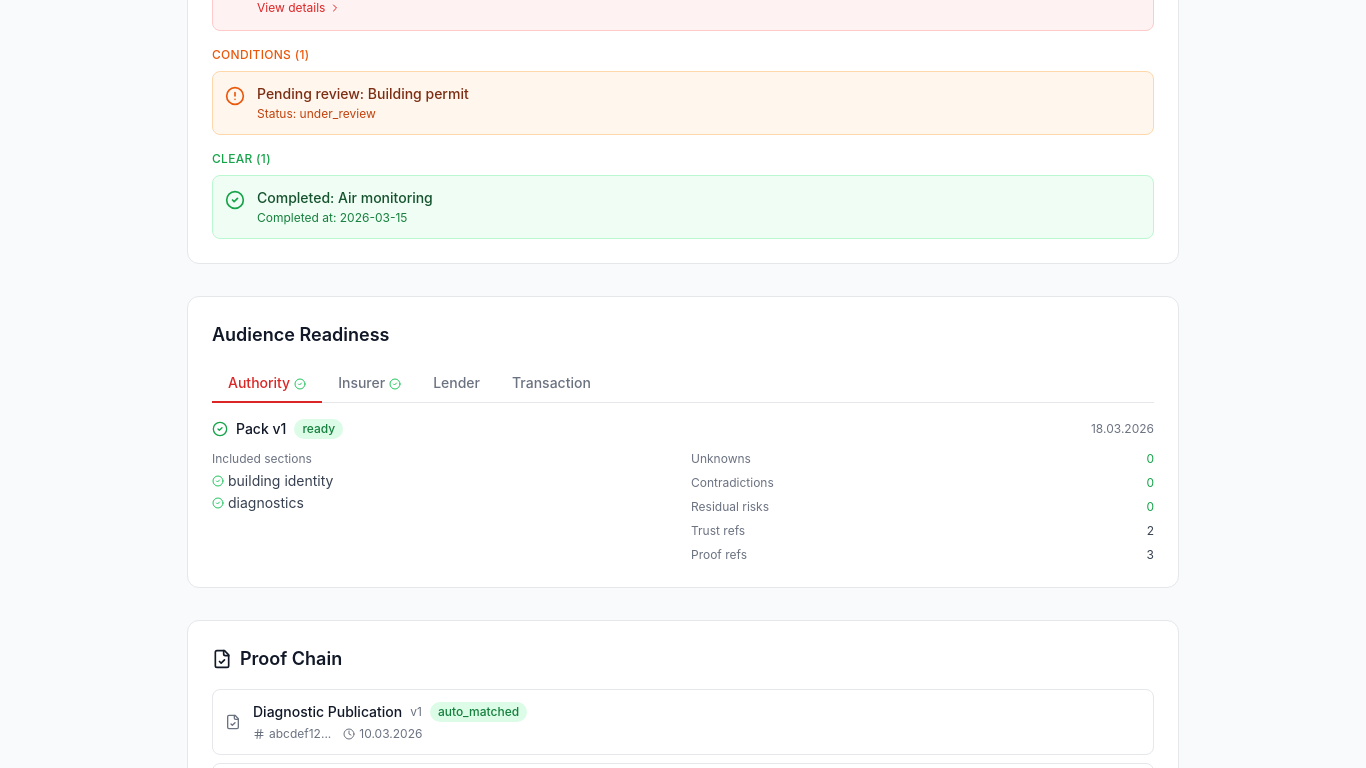
Test: BuildingDecisionView › renders audience readiness tabs and switches between them
(page scrolled)
Expected: the button "Authority" is shown, [212, 365, 322, 403]
Click the button "Insurer": (370, 384) [322, 365, 417, 403]
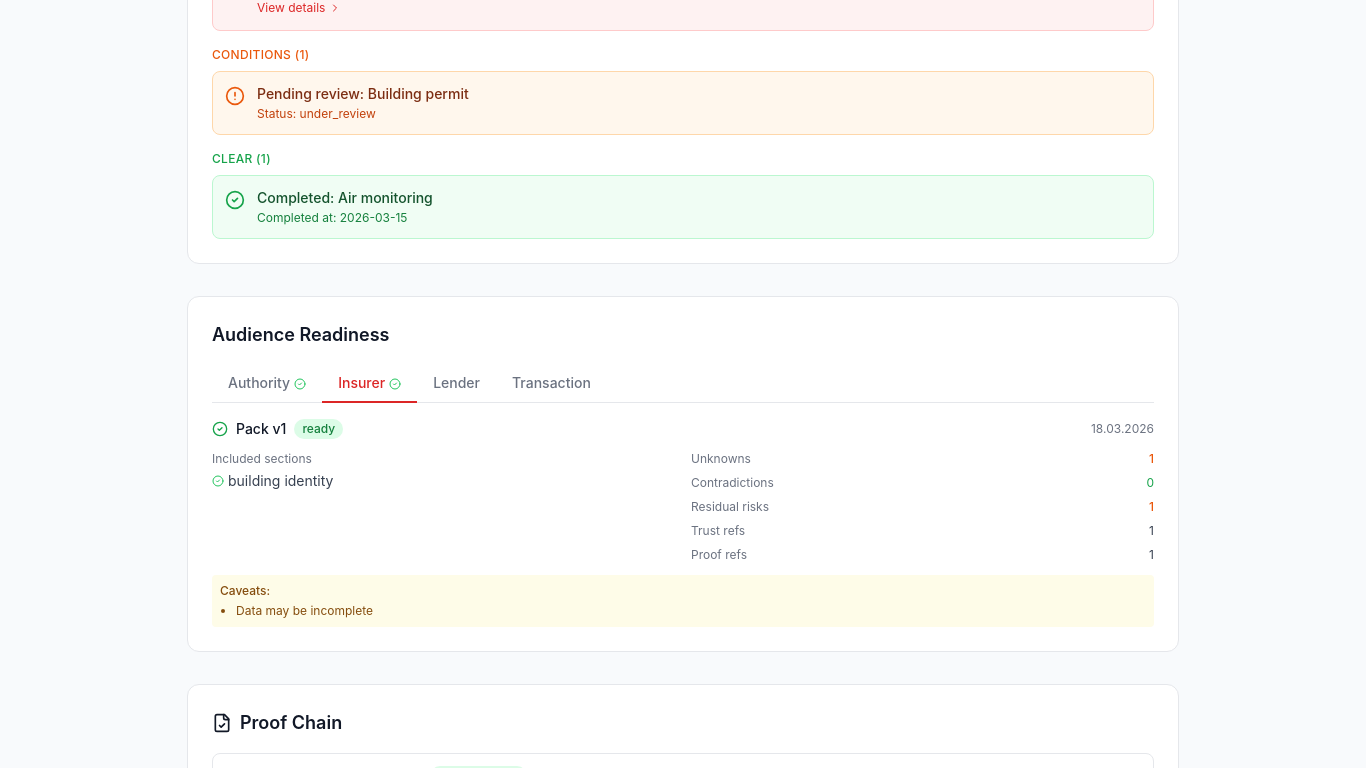
Now the list item "Data may be incomplete" is shown, box [236, 603, 373, 618]
